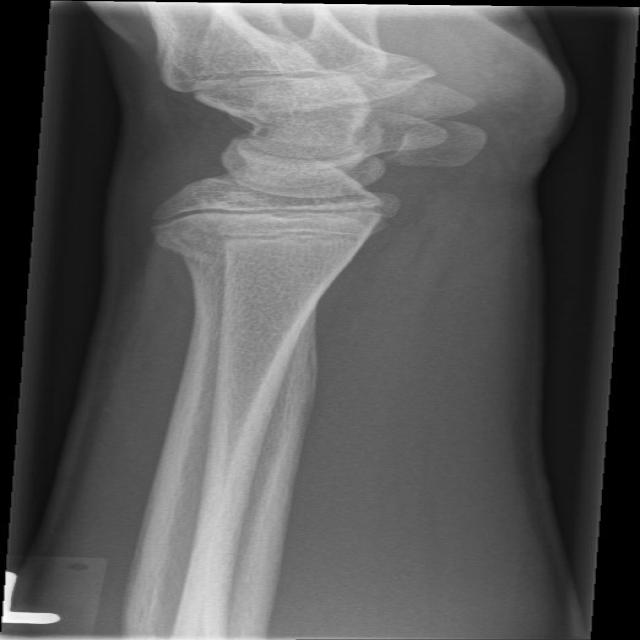fracture: (130, 190, 430, 231), (177, 219, 403, 258)
